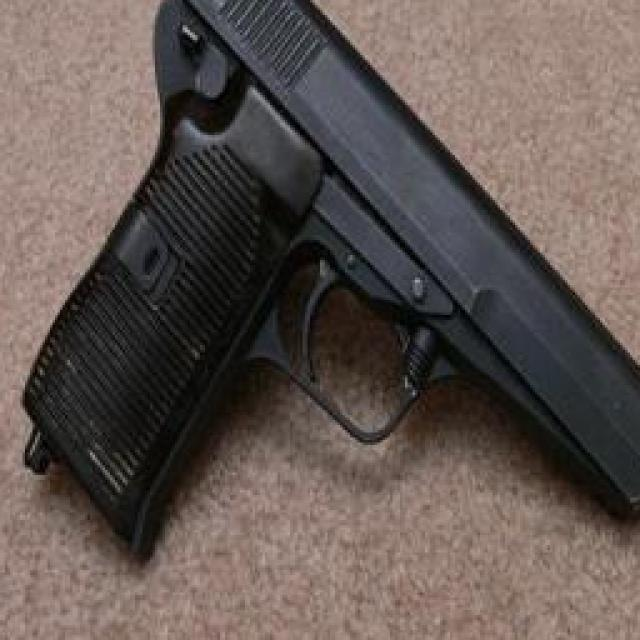pistol: (20, 0, 640, 545)
